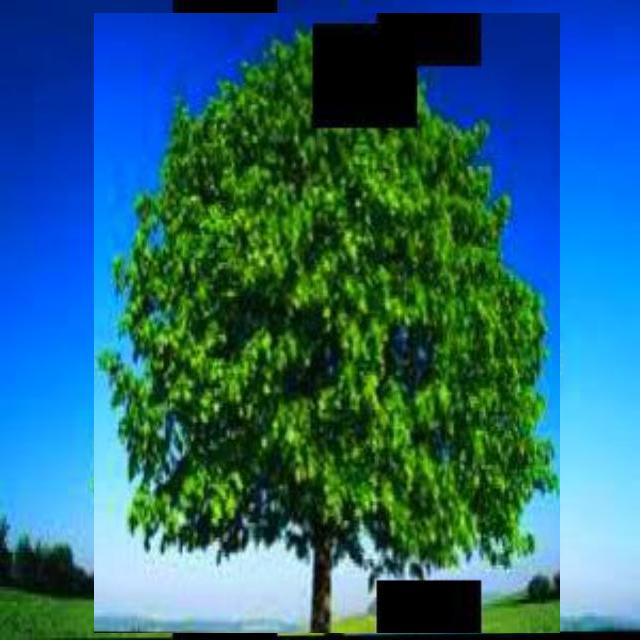tree: (94, 13, 560, 633)
